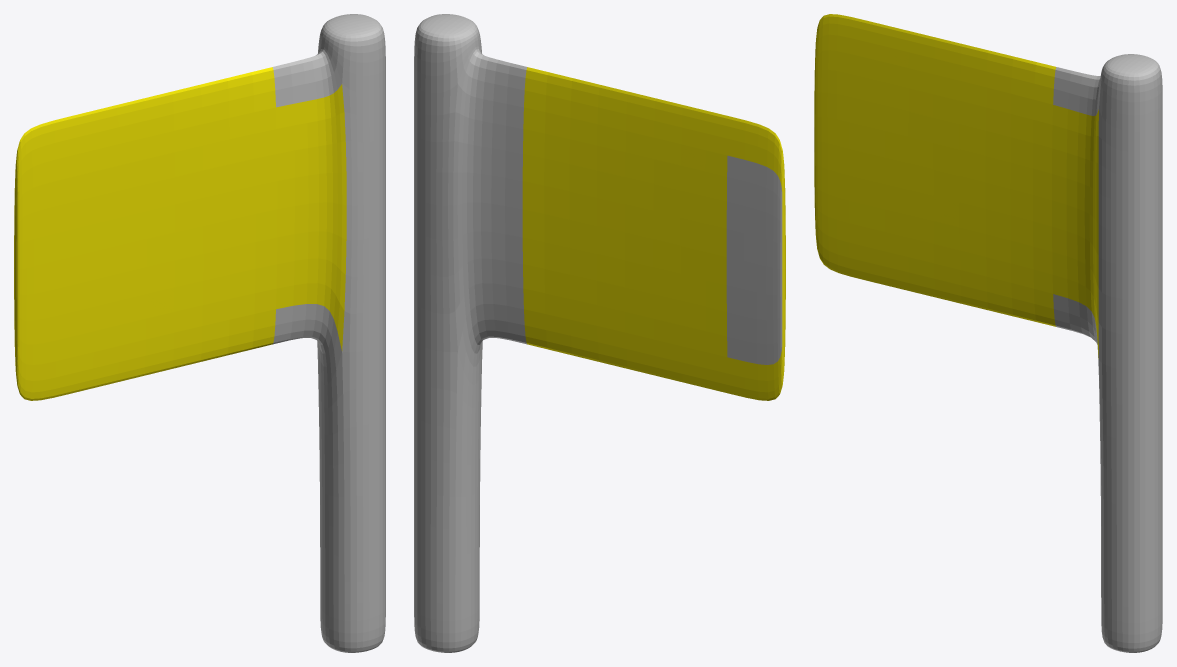
Rendered from goalTest.fbx.
The picture shows the model from 3 angles, left to right: view 1: azimuth 30°, elevation 25°; view 2: azimuth 150°, elevation 25°; view 3: azimuth 330°, elevation 25°; orthographic projection. The views are drawn at different scales.
Parts seen in each view (by area): view 1: Cube; view 2: Cube; view 3: Cube.
Boxes of the visible parts, x1,y1,x2,y2 form: Cube: (14, 14, 385, 652); Cube: (414, 14, 785, 652); Cube: (814, 14, 1162, 652).
Size of the model in its own units: 3.5 by 5.66 by 0.5451.
1 material, 1 textured.
